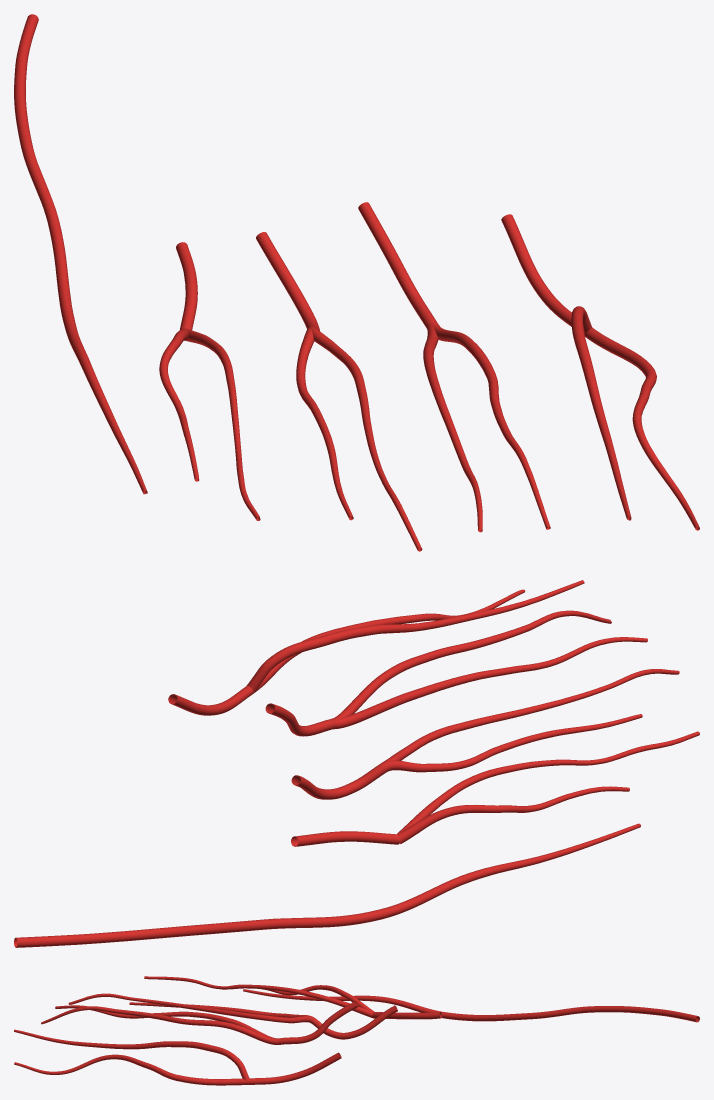
The model's file is circulatorio-common-plantar-digital-arteries-r.glb.
The picture shows the model from 3 angles, top to bottom: view 1: azimuth 30°, elevation 25°; view 2: azimuth 150°, elevation 25°; view 3: azimuth 270°, elevation 25°; orthographic projection. The views are drawn at different scales.
Parts seen in each view (by area): view 1: Proper plantar digital arteries.r, Common plantar digital arteries.r; view 2: Proper plantar digital arteries.r, Common plantar digital arteries.r; view 3: Proper plantar digital arteries.r, Common plantar digital arteries.r.
Boxes of the visible parts, x1,y1,x2,y2 form: Proper plantar digital arteries.r: (14, 14, 699, 551); Common plantar digital arteries.r: (176, 202, 571, 330); Proper plantar digital arteries.r: (14, 580, 699, 947); Common plantar digital arteries.r: (168, 686, 400, 846); Proper plantar digital arteries.r: (14, 976, 699, 1085); Common plantar digital arteries.r: (247, 1001, 441, 1084).
Size of the model in its own units: 0.0603 by 0.0177 by 0.1436.
